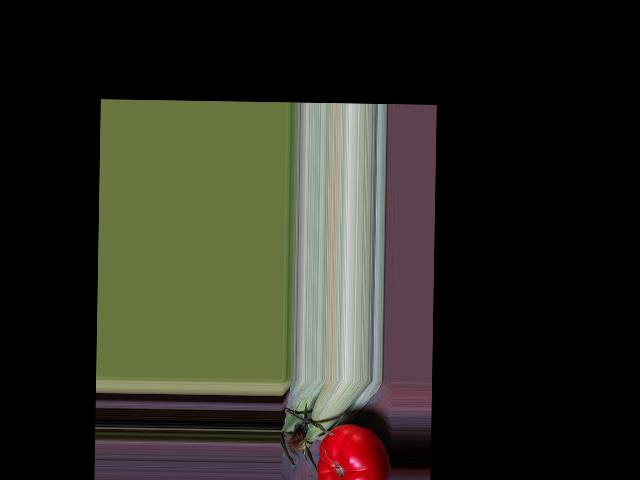tomato: (316, 423, 391, 480)
